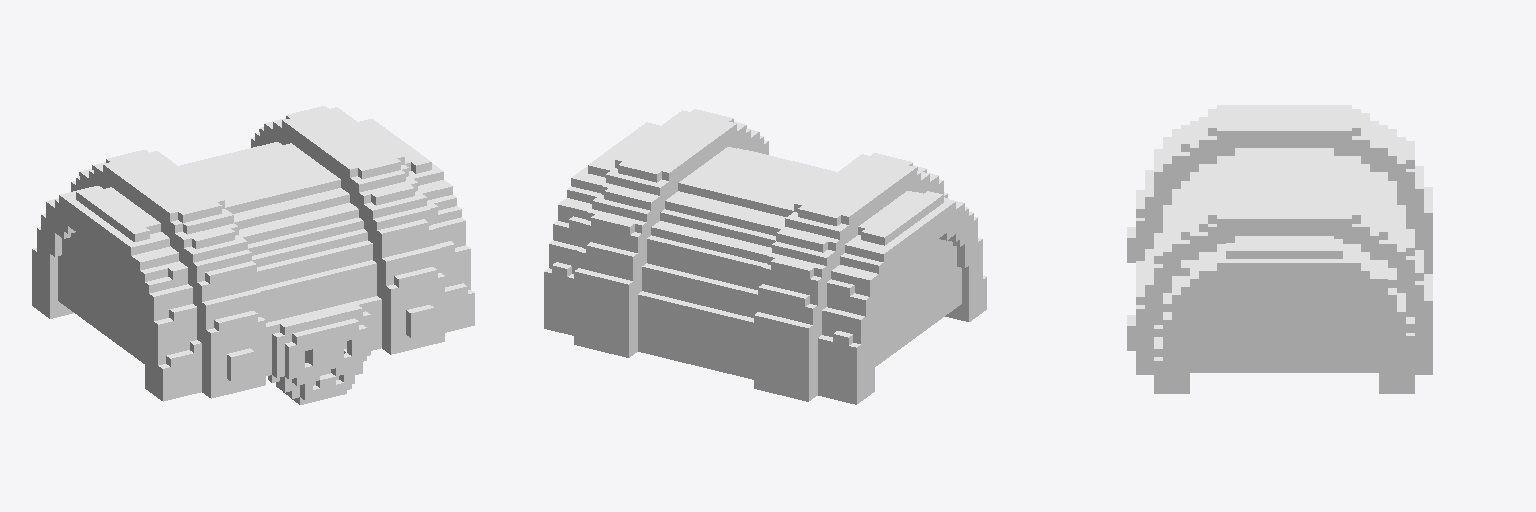
The model's file is chest-0-chest_lid.obj.
3 views of the same model, side by side, from view 1: azimuth 30°, elevation 25°; view 2: azimuth 150°, elevation 25°; view 3: azimuth 270°, elevation 25° (orthographic).
Visible parts, largest first — view 1: chest_lid; view 2: chest_lid; view 3: chest_lid.
Part boxes in pixels (x1,y1,x2,y2): chest_lid: (32,106,474,404); chest_lid: (544,109,986,404); chest_lid: (1127,105,1432,393).
Bounding box in the file's own units: 4 × 2.3 × 3.4.